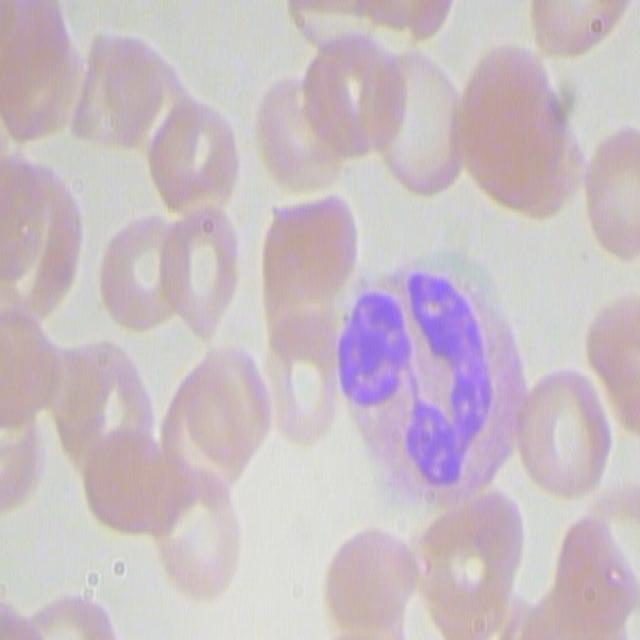RBC: (455, 39, 587, 222), (410, 468, 519, 639), (258, 189, 355, 362), (159, 344, 270, 486), (372, 46, 469, 202), (0, 150, 82, 326), (514, 364, 617, 504), (51, 340, 161, 470), (298, 27, 402, 164), (547, 491, 638, 639), (0, 2, 86, 147), (155, 205, 247, 339), (153, 461, 243, 597), (145, 94, 241, 214), (321, 524, 420, 638), (98, 211, 182, 336), (2, 300, 50, 518), (255, 325, 340, 445), (577, 128, 640, 262), (590, 280, 640, 434), (0, 585, 125, 640), (526, 0, 633, 57)
WBC: (335, 253, 520, 508)
